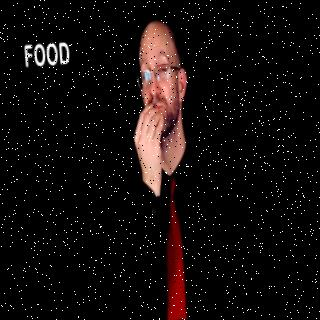Food: (114, 14, 216, 320)
